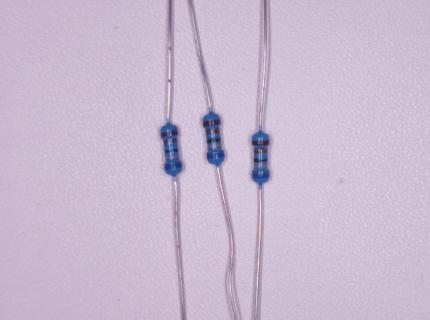Black band: (207, 137, 221, 143), (164, 148, 178, 153), (254, 157, 268, 162)
Blue band: (164, 162, 182, 170), (206, 152, 224, 160), (251, 172, 269, 179)
Brown band: (202, 119, 220, 127), (160, 130, 177, 138), (252, 140, 270, 145)
Grey band: (165, 154, 179, 160), (207, 144, 221, 149), (254, 164, 267, 168)
Orange band: (163, 138, 177, 144), (206, 128, 219, 134), (254, 149, 268, 154)
